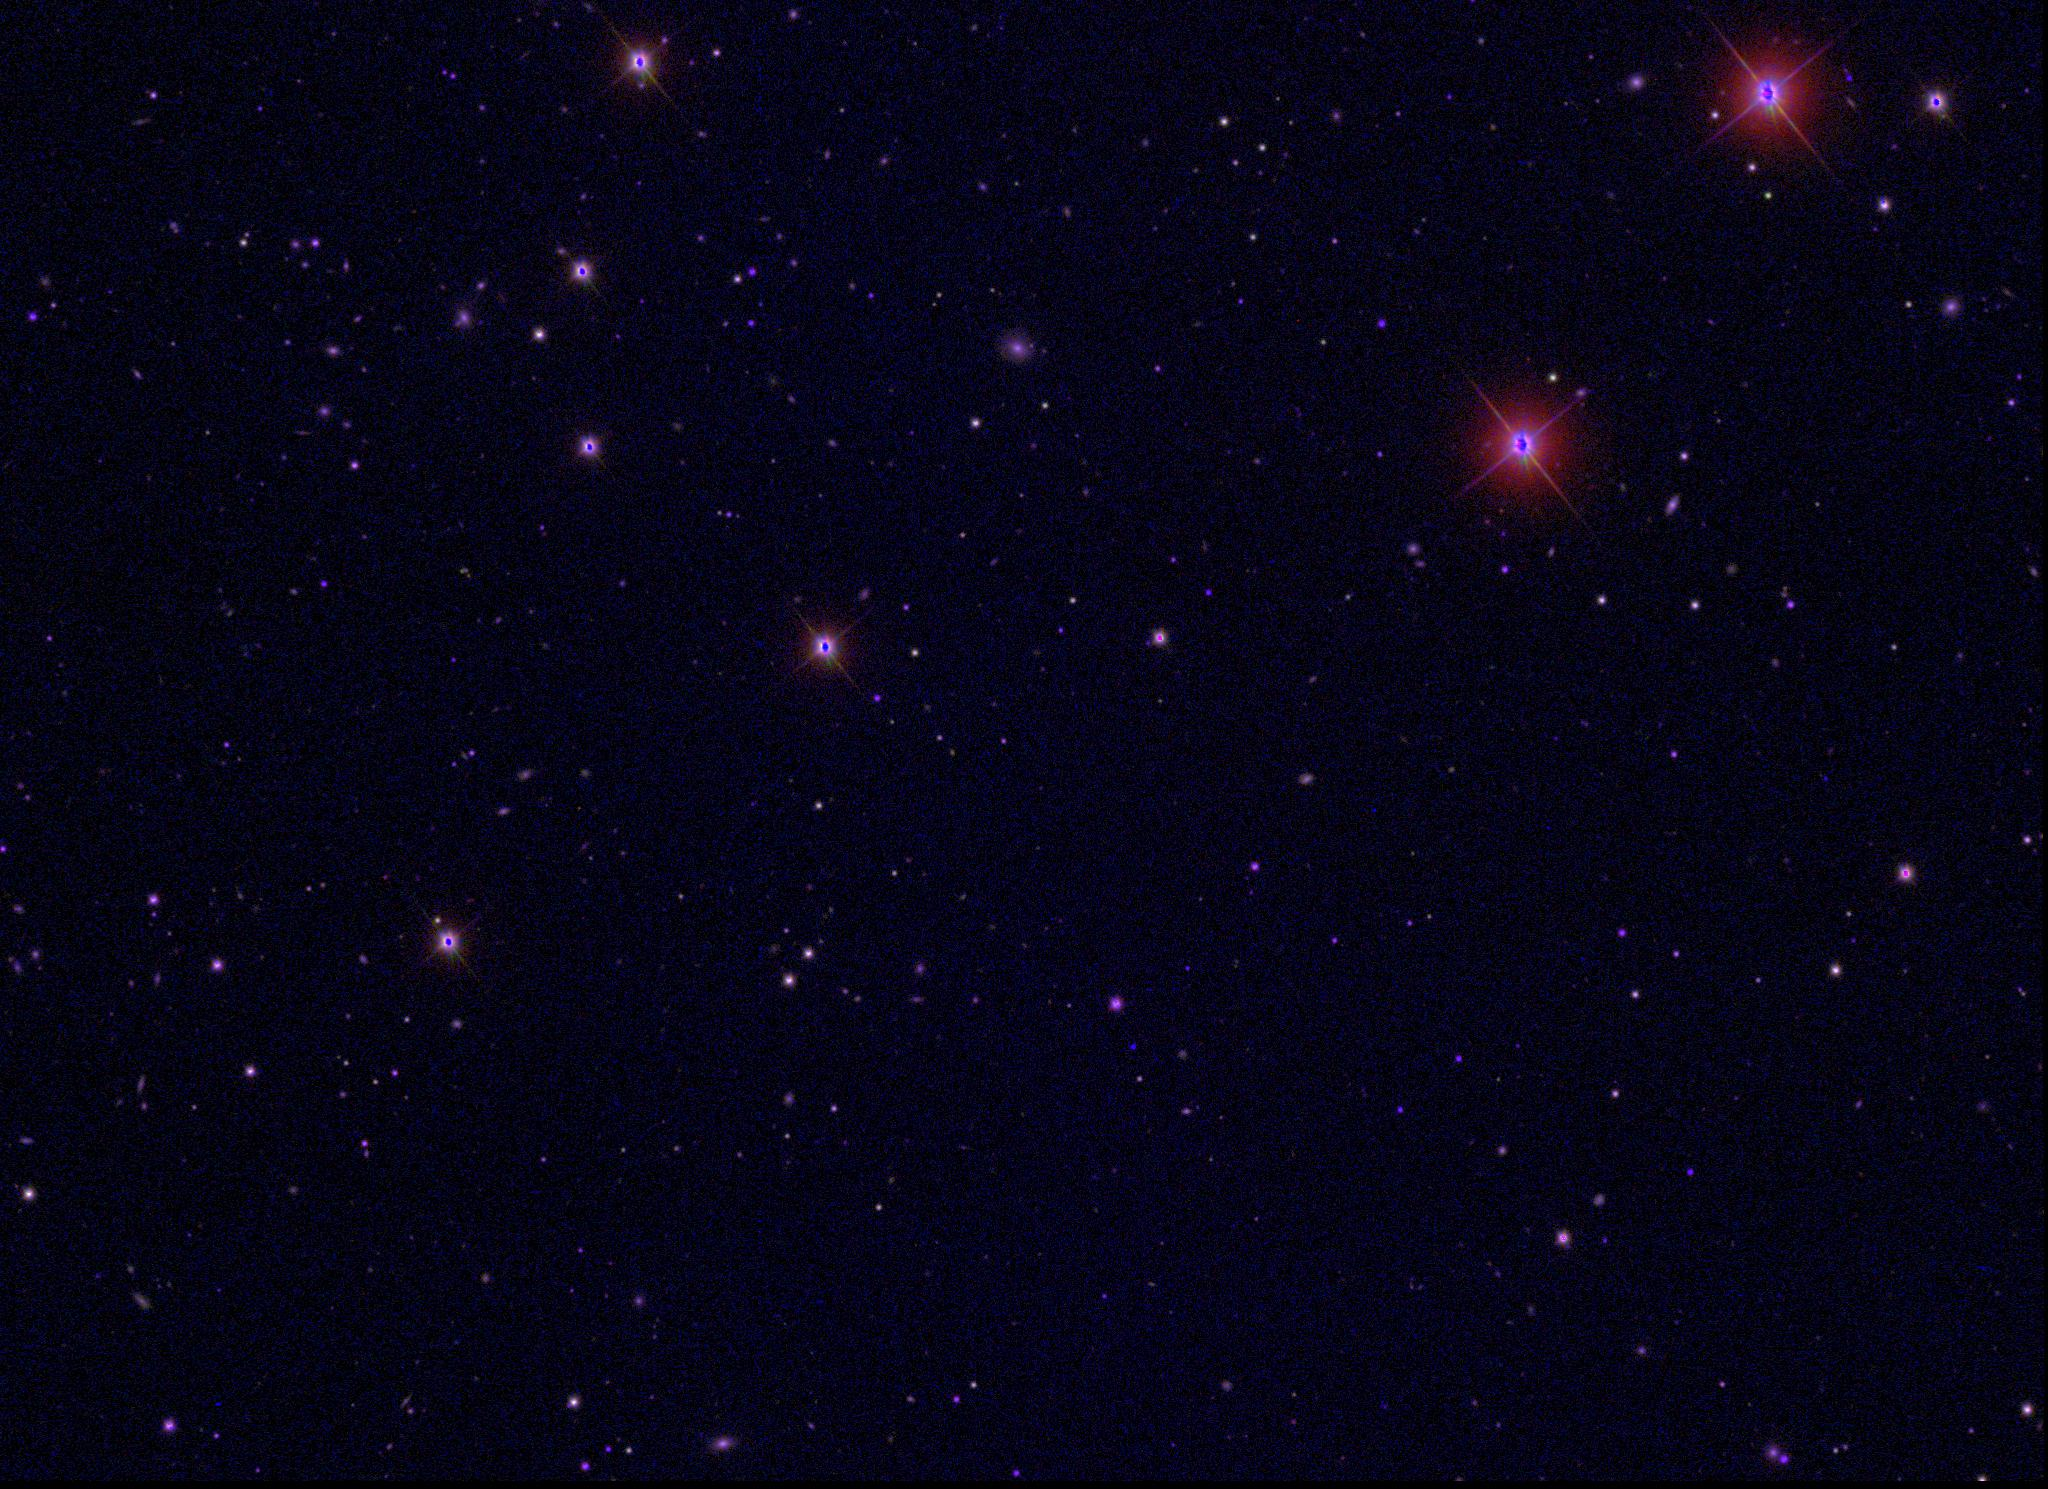L: (1127, 1039, 1142, 1053)
